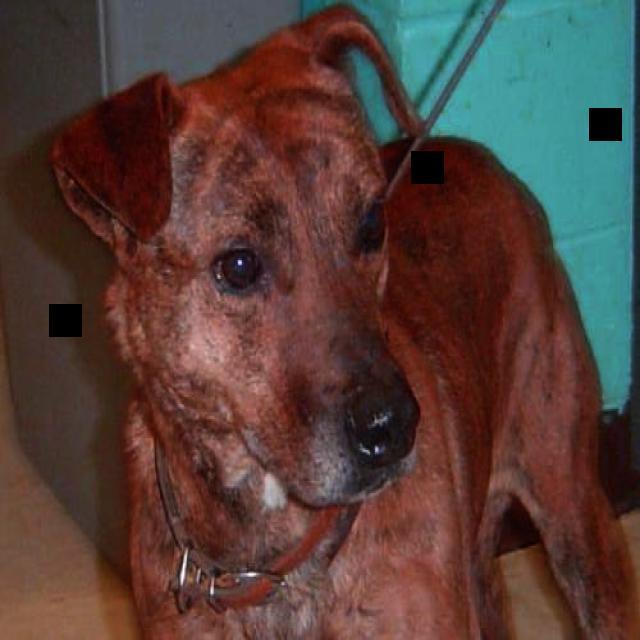adult_dog: (41, 3, 640, 640)
